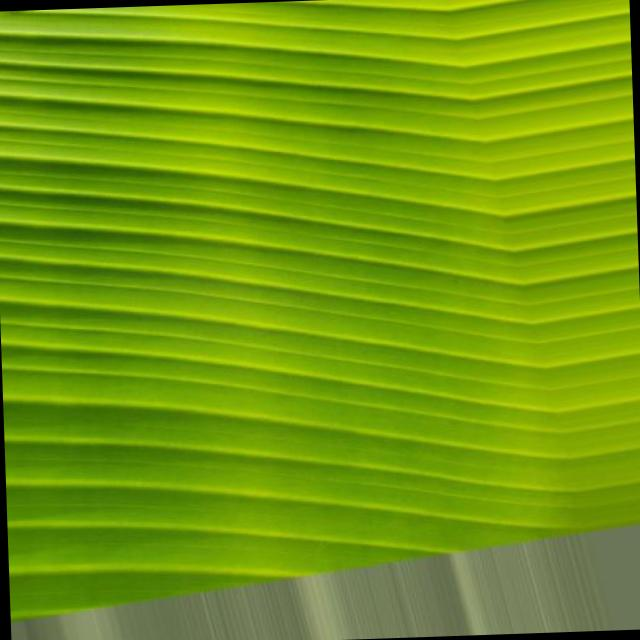Banana_Healthy: (96, 64, 428, 410)
